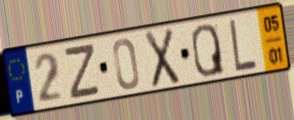0: (111, 37, 141, 92)
2: (34, 51, 65, 106)
L: (227, 17, 259, 73)
Q: (190, 22, 227, 79)
X: (143, 26, 181, 91)
Z: (64, 41, 102, 102)
